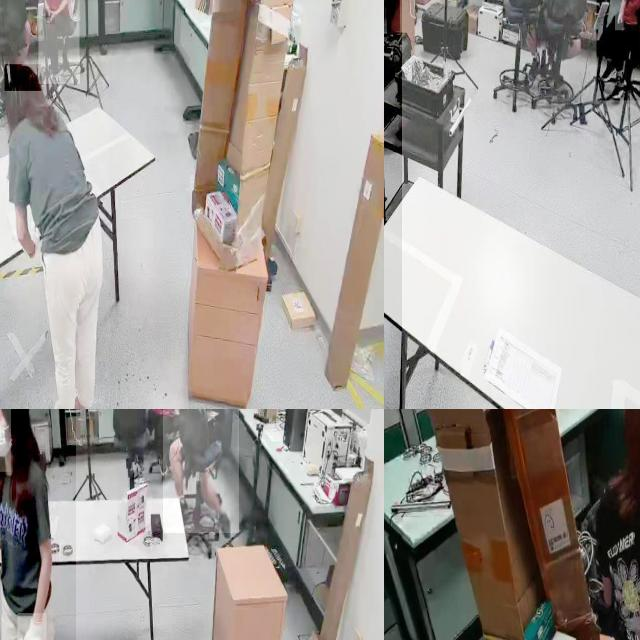face_mask: (0, 409, 11, 471)
hand_glove: (17, 613, 46, 640)
hand_noglove: (46, 8, 56, 25), (615, 13, 624, 31), (44, 7, 52, 19)
head_nohelmet: (4, 64, 42, 92)
person: (0, 56, 110, 409), (0, 409, 76, 640), (162, 409, 239, 534), (596, 0, 640, 101), (38, 0, 79, 83), (0, 0, 34, 73), (137, 409, 180, 439)
shoes: (50, 393, 81, 409)
